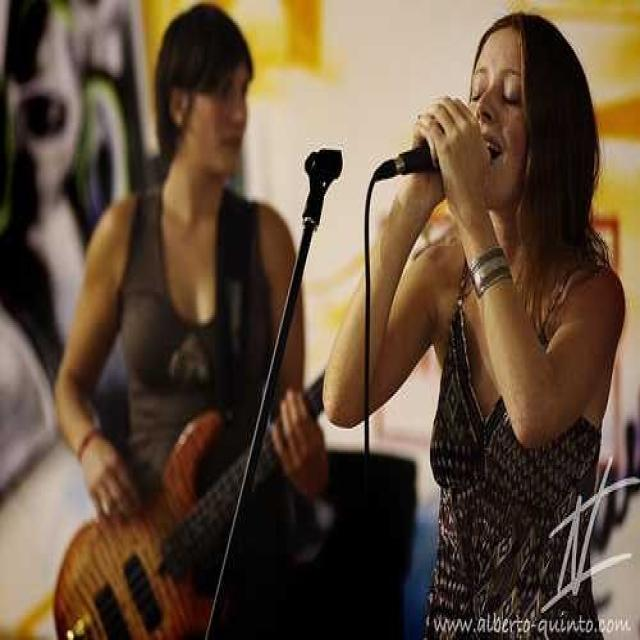microphone: (387, 125, 498, 189)
